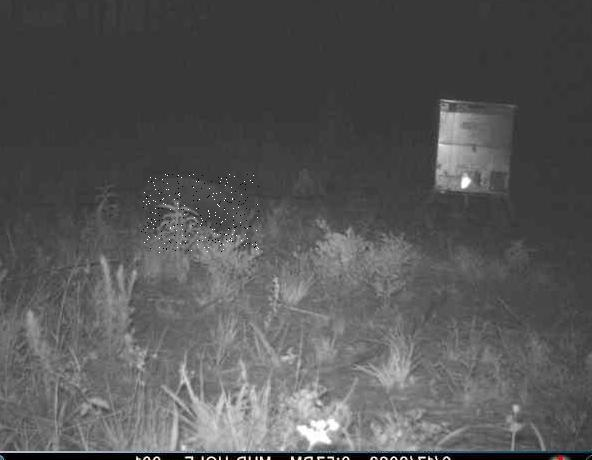Hog: (141, 175, 259, 254)
